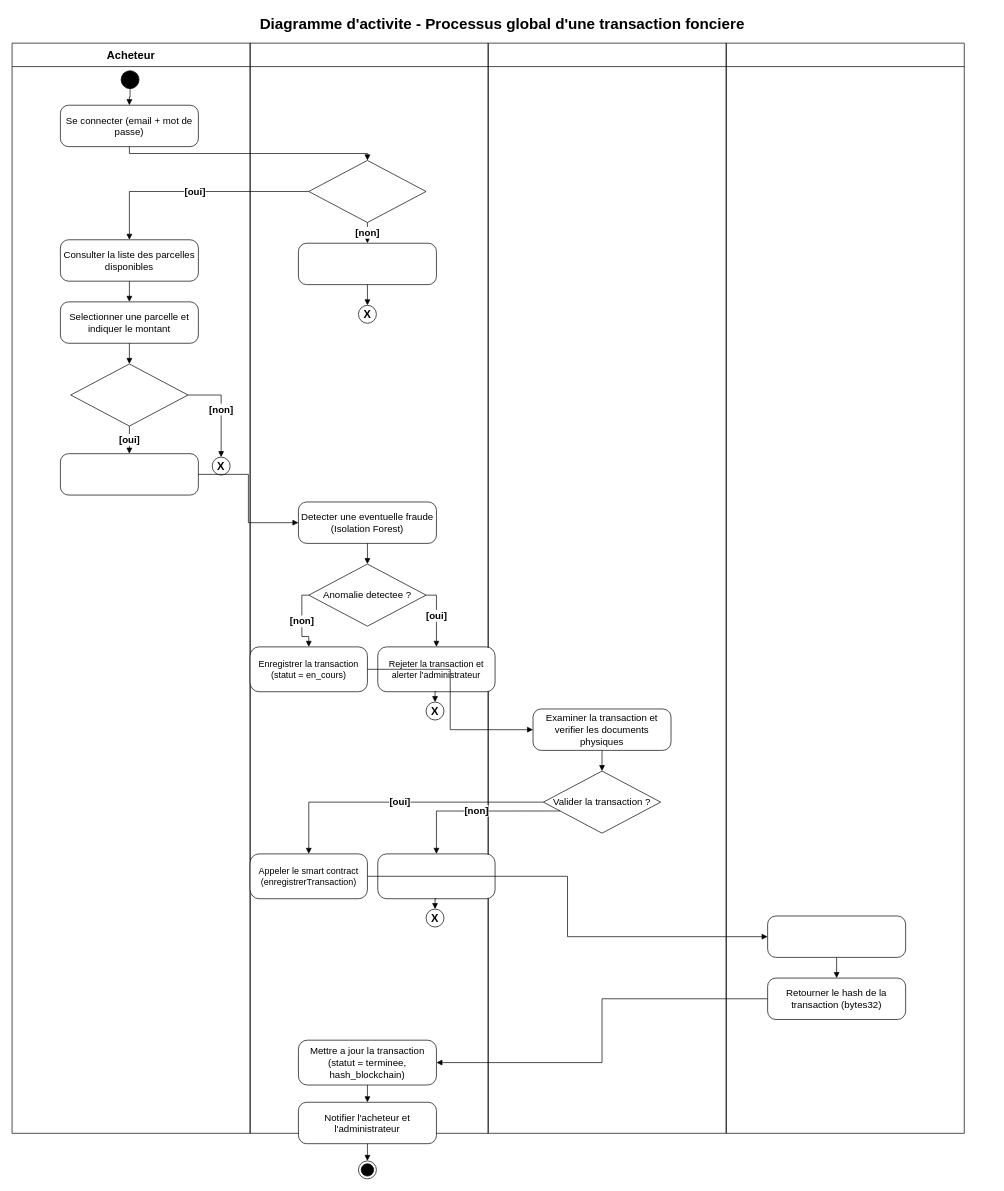
The diagram is 1004 pixels wide and 1191 high, and some of its shapes have lost their labels. Each missing label, with the box of its shape:
Administrateur: (487, 42, 726, 1133)
Afficher un message d'erreur d'authentification: (298, 243, 436, 285)
Annuler la transaction (statut = annulee): (377, 853, 495, 899)
Authentification valide ?: (308, 160, 426, 223)
Blockchain (Smart Contract): (726, 42, 964, 1133)
Confirmer l'achat ?: (70, 363, 188, 426)
Envoyer la demande de transaction: (60, 453, 198, 495)
Miner la transaction sur le reseau Ethereum: (767, 915, 906, 957)
Systeme (Frontend + API + Module IA): (249, 42, 488, 1133)
